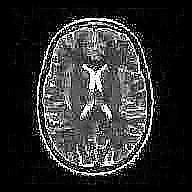Normal_Brain: (1, 2, 192, 192)
